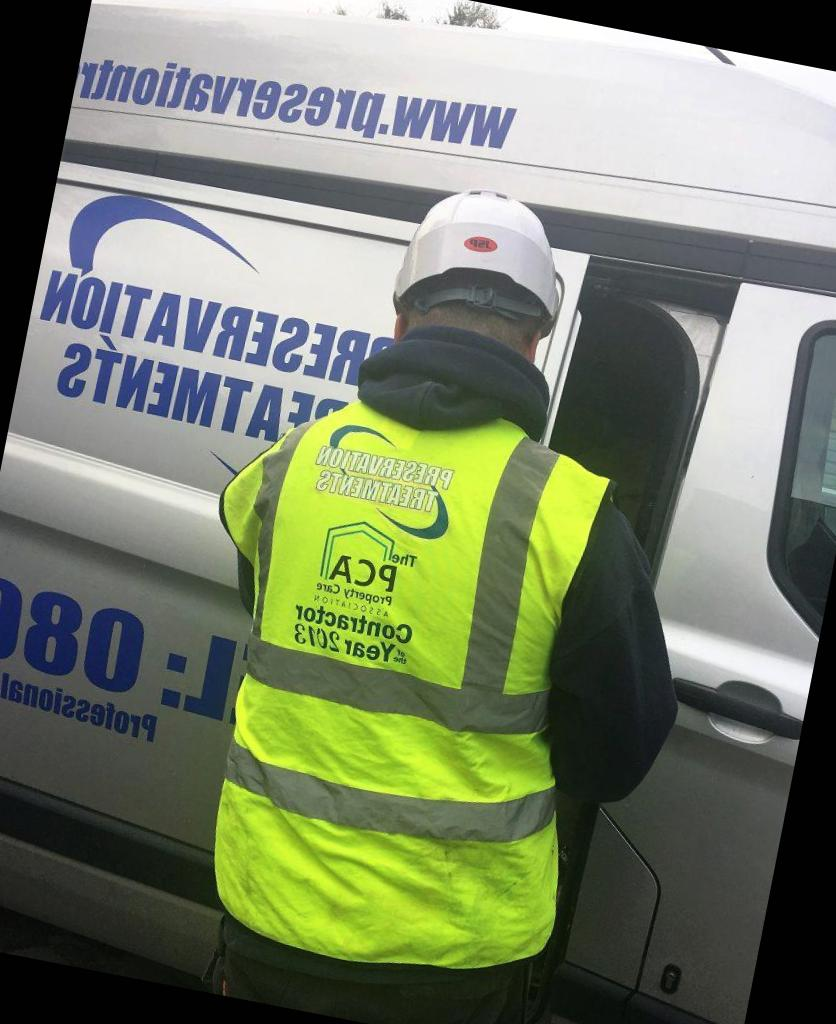helmet: (340, 162, 609, 363)
person: (121, 140, 773, 1024)
